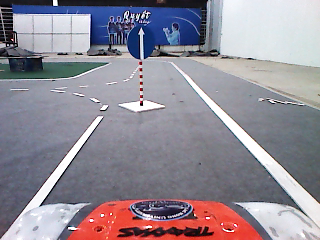straight: (127, 24, 155, 60)
